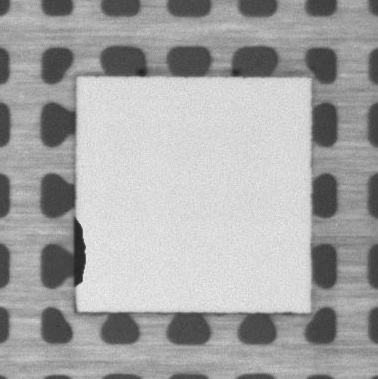DIE_BROKEN: (71, 217, 88, 293)
